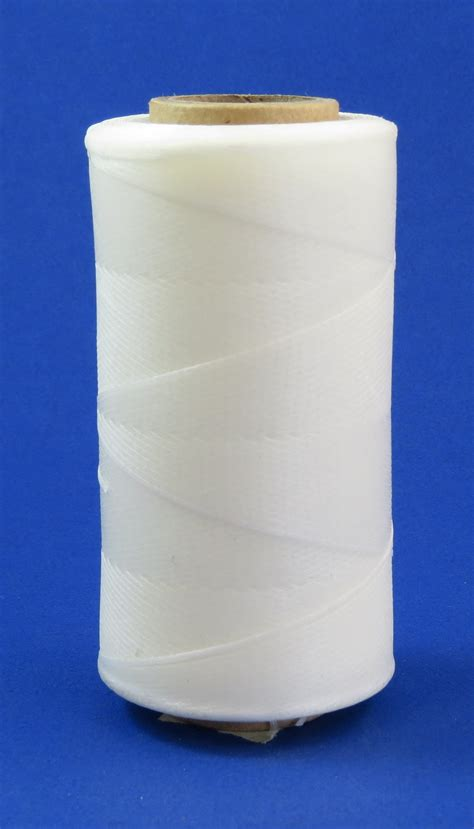nylon: (80, 115, 400, 720)
